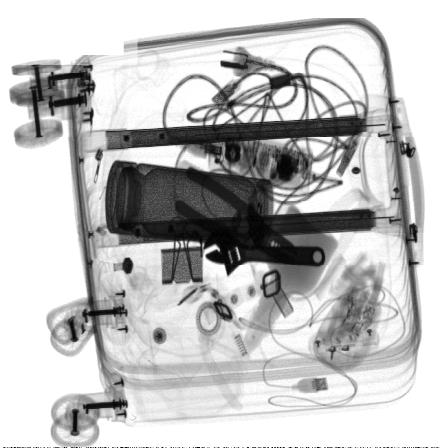Pliers: (174, 159, 299, 265)
Wrench: (204, 228, 326, 277)
